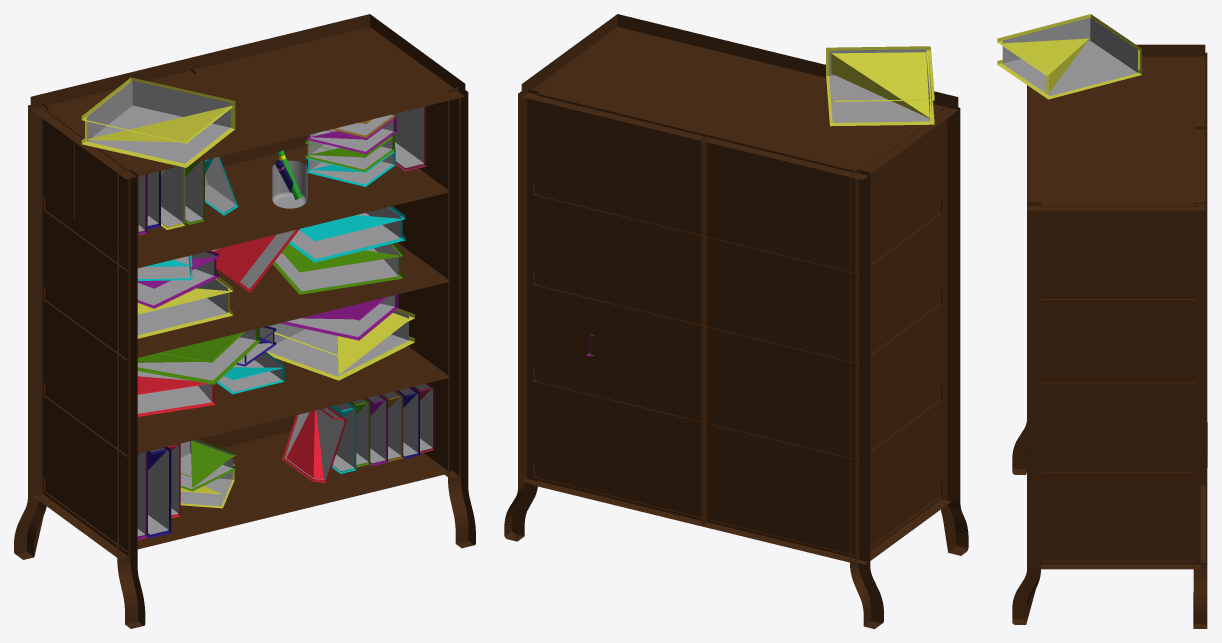
The model's file is etagere.glb.
3 views of the same model, side by side, from view 1: azimuth 30°, elevation 25°; view 2: azimuth 150°, elevation 25°; view 3: azimuth 270°, elevation 25° (orthographic). The views are drawn at different scales.
Parts seen in each view (by area): view 1: etagere; view 2: etagere; view 3: etagere.
Boxes of the visible parts, x1,y1,x2,y2 form: etagere: (14, 14, 475, 628); etagere: (504, 14, 968, 628); etagere: (997, 14, 1207, 628).
Bounding box in the file's own units: 1.63 × 2.03 × 0.8599.
